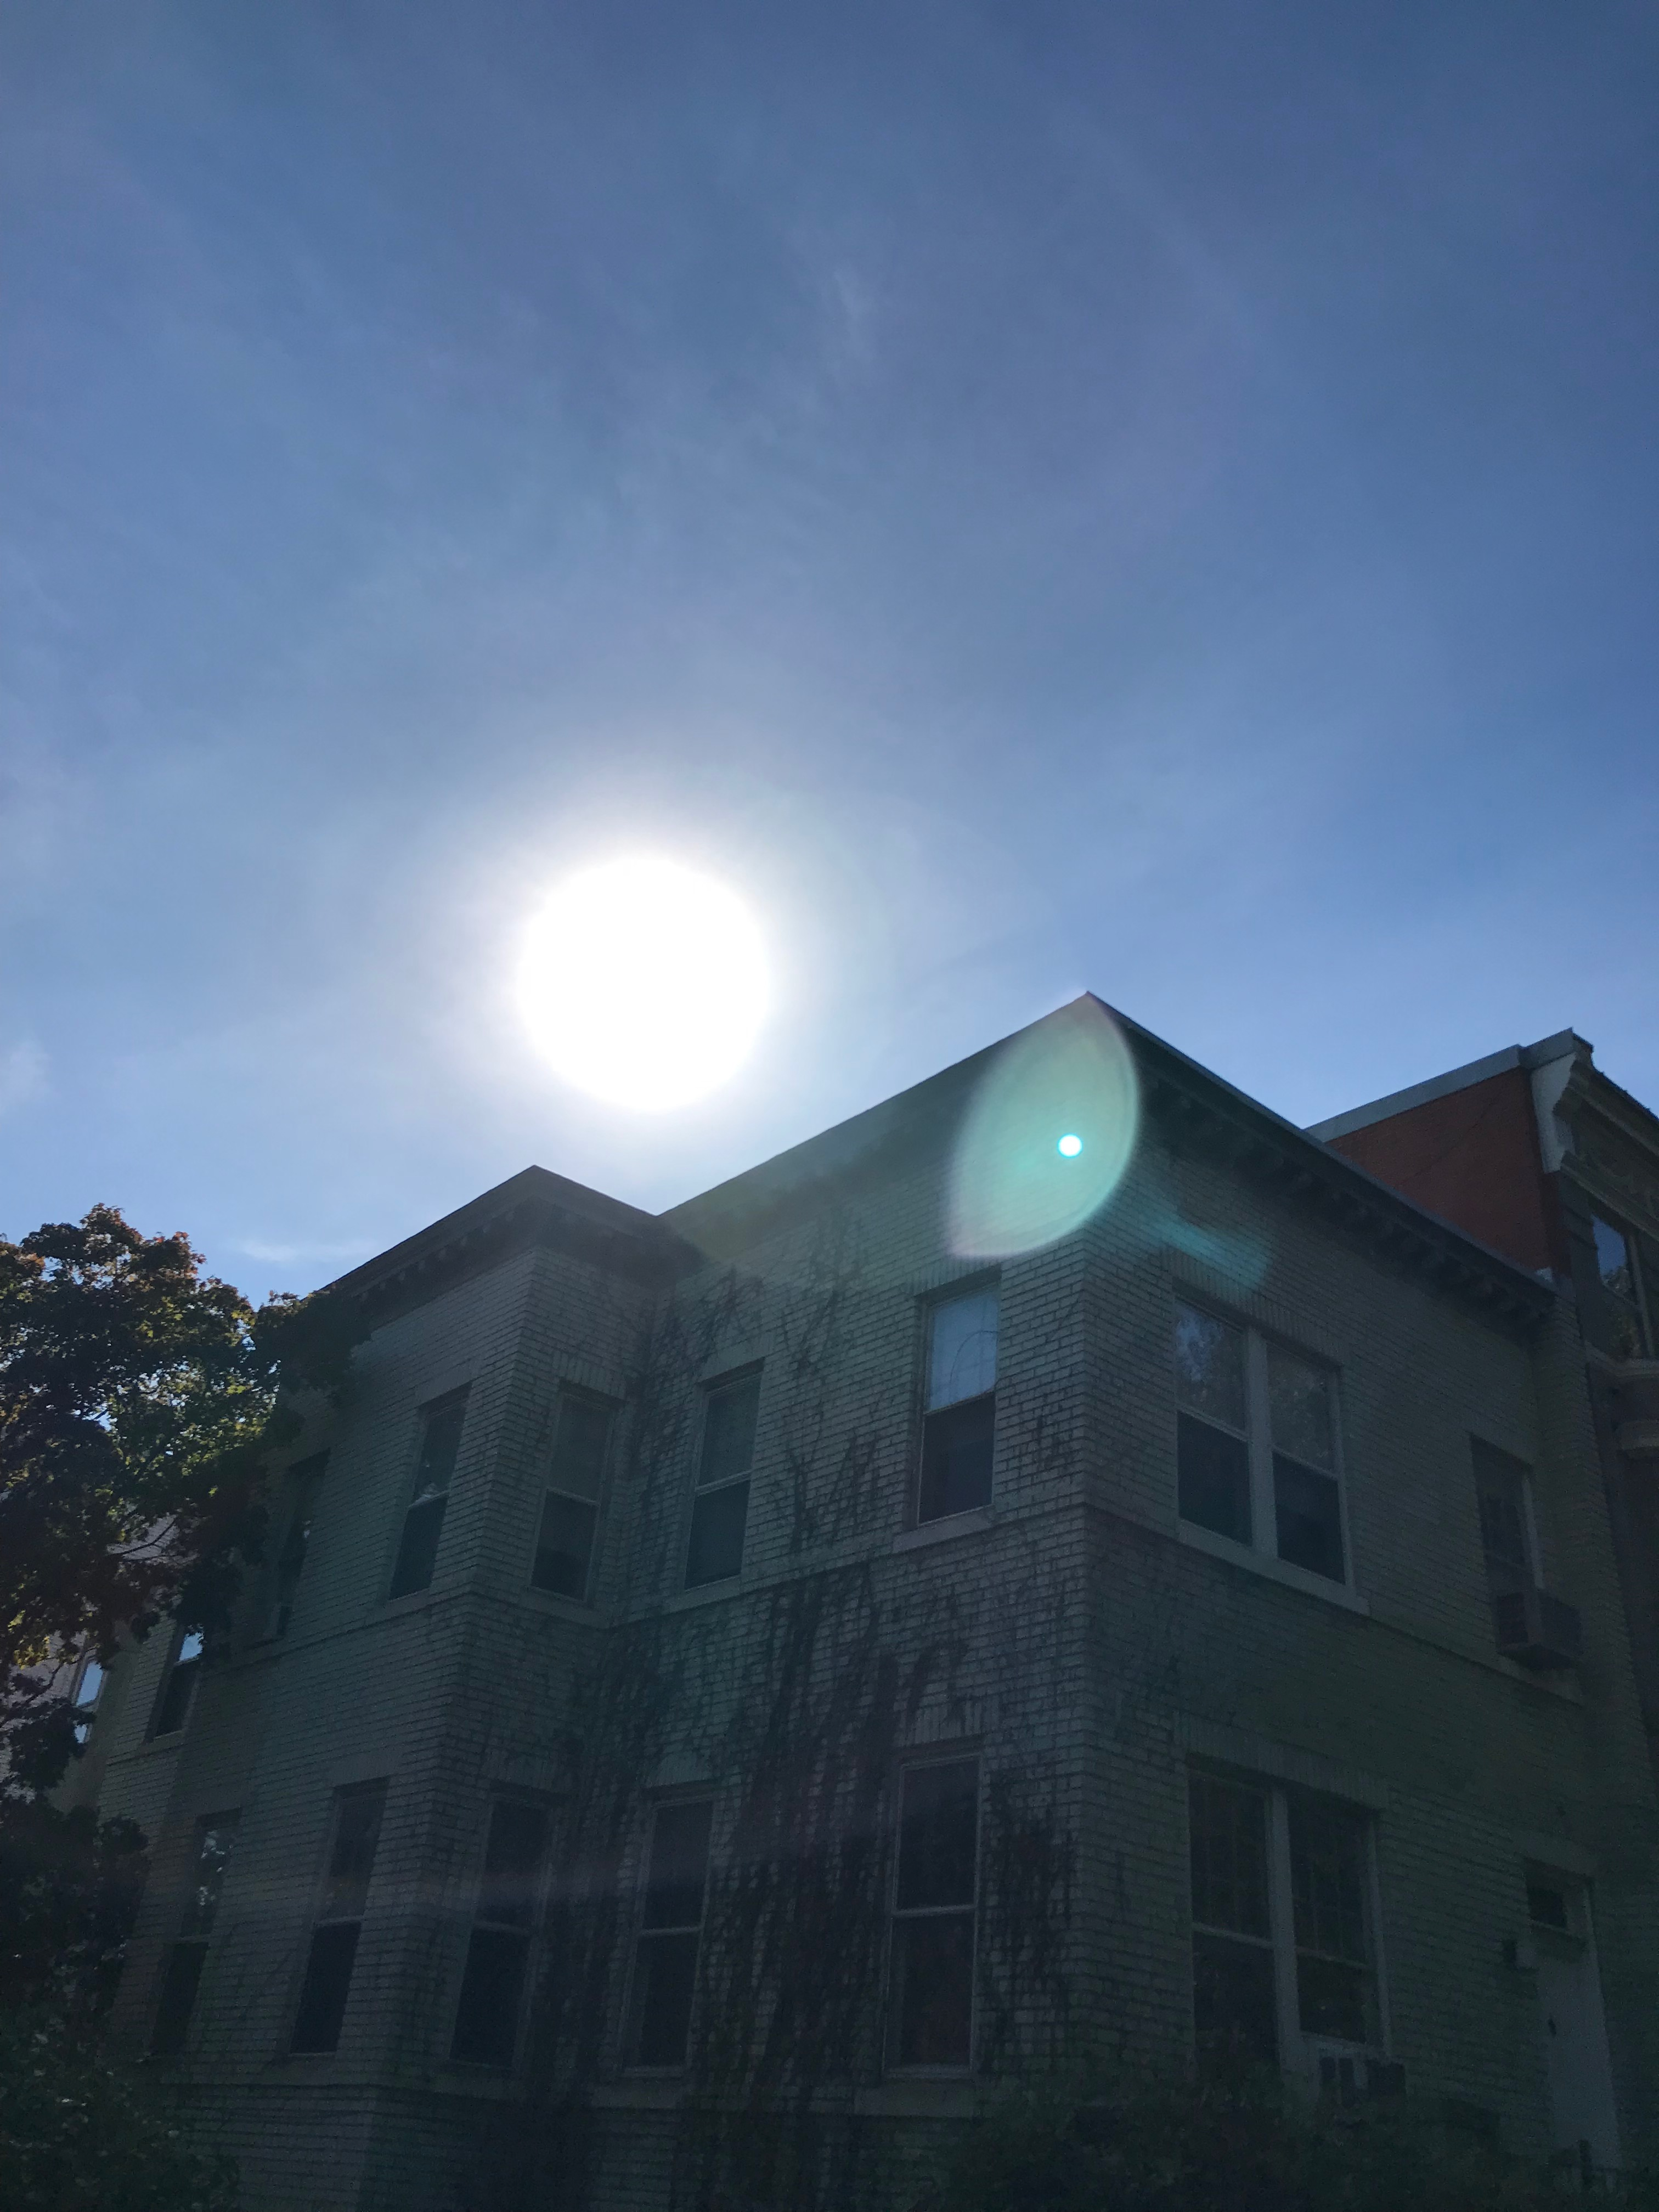flare: (1056, 1134, 1084, 1158)
